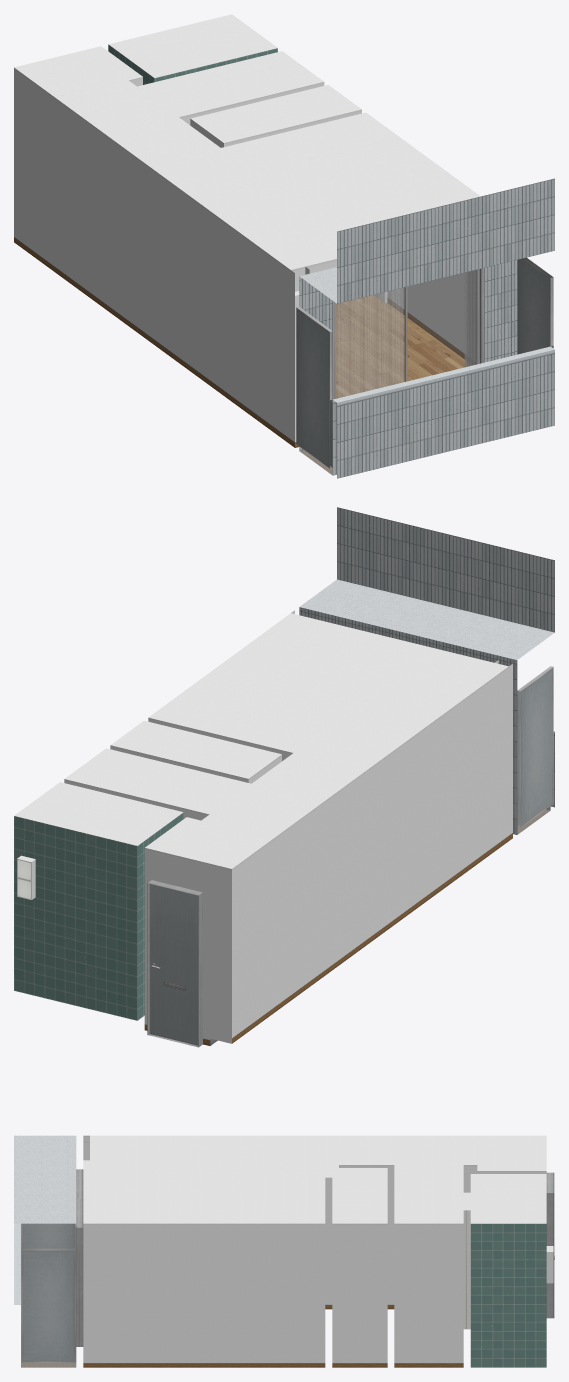
The model's file is One Room Apartment - day.glb.
The picture shows the model from 3 angles, top to bottom: view 1: azimuth 30°, elevation 25°; view 2: azimuth 150°, elevation 25°; view 3: azimuth 270°, elevation 25°; orthographic projection. The views are drawn at different scales.
Parts seen in each view (by area): view 1: apartment room, sliding door left, curtains right, sliding door right, curtains left; view 2: apartment room, door front; view 3: apartment room.
Part boxes in pixels (x1,y1,x2,y2): apartment room: [14, 14, 554, 478]; sliding door left: [404, 269, 479, 381]; curtains right: [336, 288, 403, 398]; sliding door right: [336, 288, 403, 398]; curtains left: [464, 270, 476, 367]; apartment room: [14, 507, 554, 1047]; door front: [149, 881, 201, 1045]; apartment room: [14, 1135, 554, 1367].
Bounding box in the file's own units: 3.08 × 3.35 × 7.82.
23 materials, 22 textured.
